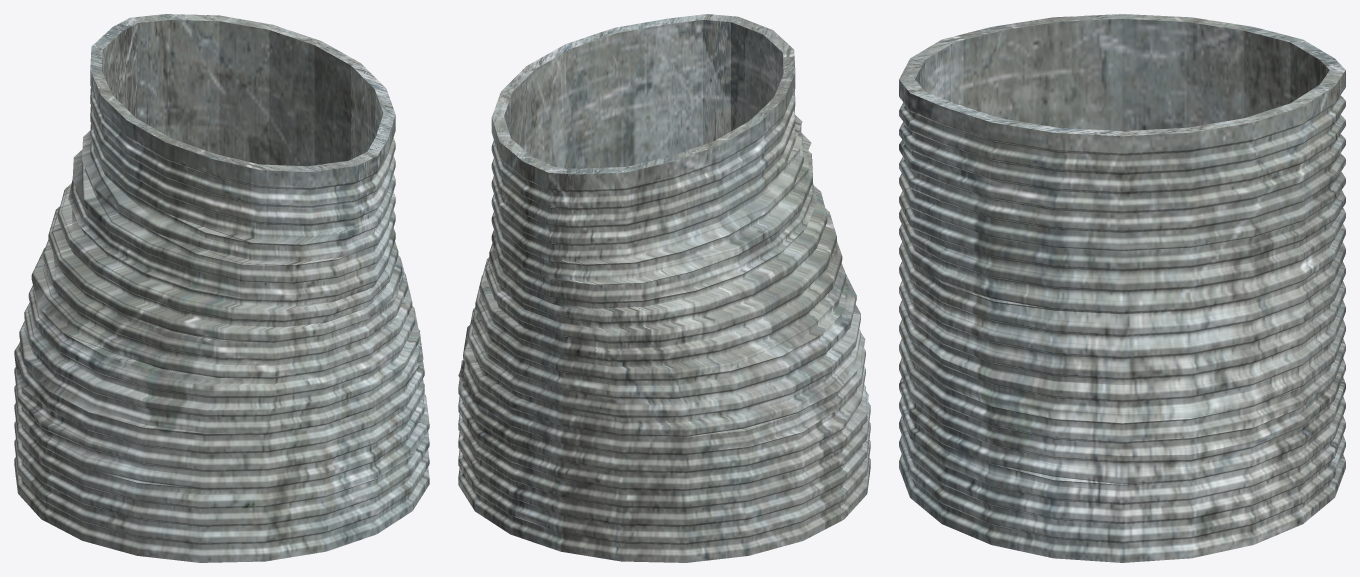
File: Trash_Tin_Squashed.fbx
3 renders of one model, left to right at view 1: azimuth 30°, elevation 25°; view 2: azimuth 150°, elevation 25°; view 3: azimuth 270°, elevation 25°, orthographic. The views are drawn at different scales.
Parts seen in each view (by area): view 1: pCylinder2; view 2: pCylinder2; view 3: pCylinder2.
Boxes of the visible parts, left/top/right/bottom form: pCylinder2: left=14, top=14, right=429, bottom=562; pCylinder2: left=458, top=14, right=870, bottom=562; pCylinder2: left=899, top=14, right=1345, bottom=562.
Size of the model in its own units: 10.82 by 10.82 by 10.82.
Materials: 1 (1 with a texture image).
